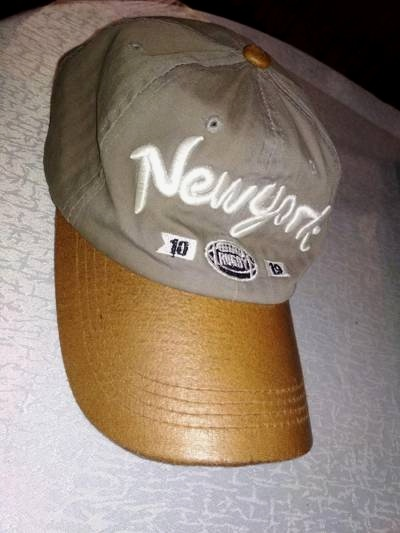Hat: (32, 10, 363, 503)
